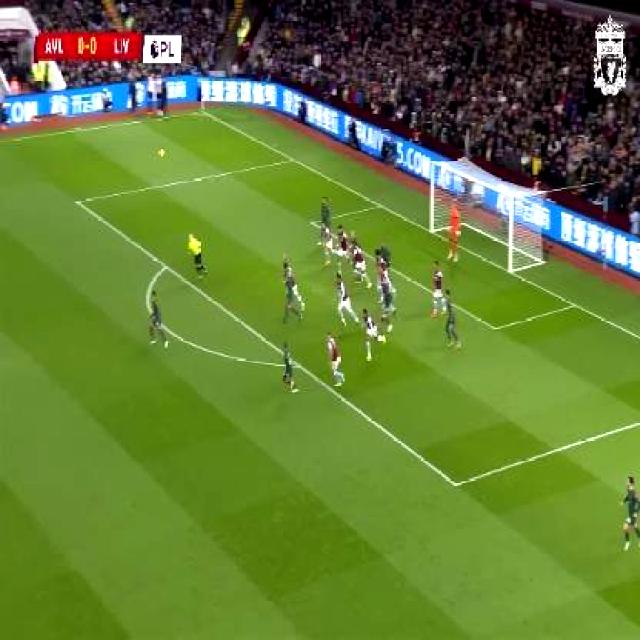bigarea_bottom_inner: (443, 468, 468, 498)
bigarea_top_inner: (70, 192, 84, 211)
bigarea_top_outter: (288, 154, 297, 164)
bottom_arc_area_intersection: (294, 357, 306, 377)
corner: (195, 108, 208, 117)
smallarea_bottom_inner: (486, 314, 503, 340)
smallarea_bottom_outter: (566, 294, 582, 314)
smallarea_top_inner: (308, 214, 318, 229)
smallarea_top_outter: (372, 197, 385, 214)
top_arc_area_intersection: (158, 257, 171, 275)
